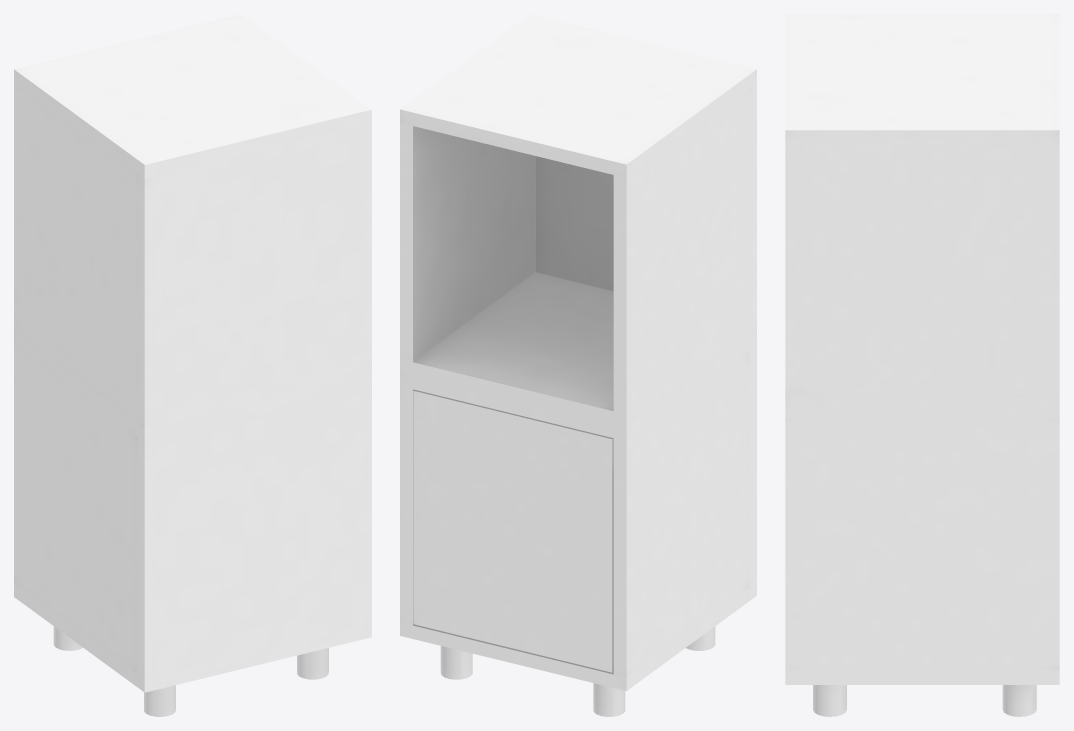
Rendered from NightstandShapes.glb.
3 views of the same model, side by side, from view 1: azimuth 30°, elevation 25°; view 2: azimuth 150°, elevation 25°; view 3: azimuth 270°, elevation 25° (orthographic). The views are drawn at different scales.
Parts seen in each view (by area): view 1: NightstandShapes; view 2: NightstandShapes; view 3: NightstandShapes.
Boxes of the visible parts, box(x1,y1,x2,y2) form: NightstandShapes: box(14, 14, 371, 716); NightstandShapes: box(400, 14, 756, 716); NightstandShapes: box(785, 14, 1059, 716).
Size of the model in its own units: 0.2517 by 0.6034 by 0.2509.
Materials: 1 (1 with a texture image).
